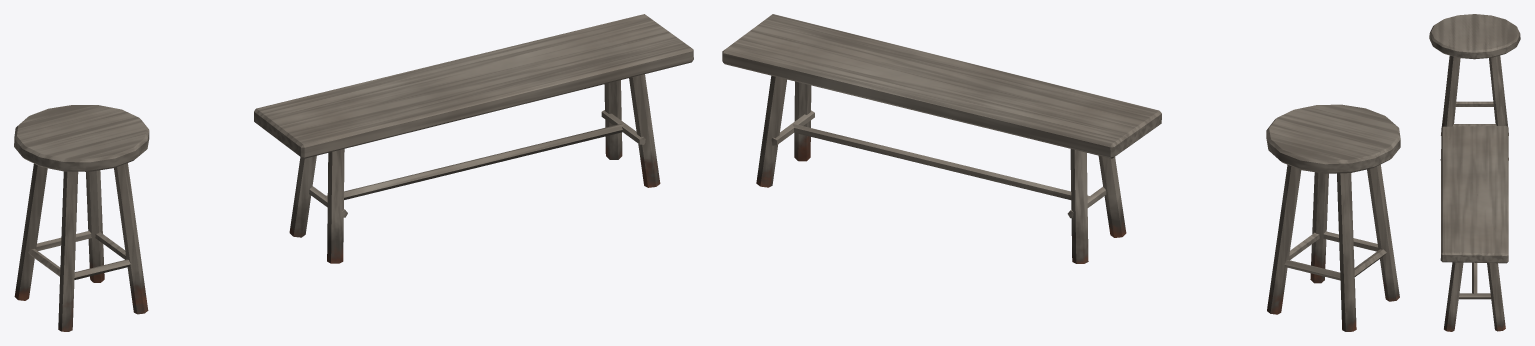
Rendered from ShackSeats.fbx.
The picture shows the model from 3 angles, left to right: view 1: azimuth 30°, elevation 25°; view 2: azimuth 150°, elevation 25°; view 3: azimuth 270°, elevation 25°; orthographic projection. The views are drawn at different scales.
Visible parts, largest first — view 1: WoodenBench, WoodenStool; view 2: WoodenBench, WoodenStool; view 3: WoodenBench, WoodenStool.
Part boxes in pixels (left/top/right/bottom): WoodenBench: left=254, top=14, right=693, bottom=263; WoodenStool: left=14, top=105, right=149, bottom=331; WoodenBench: left=722, top=14, right=1161, bottom=263; WoodenStool: left=1266, top=104, right=1400, bottom=331; WoodenBench: left=1440, top=126, right=1508, bottom=331; WoodenStool: left=1429, top=14, right=1520, bottom=160.
Size of the model in its own units: 231 by 59.72 by 41.78.
1 material, 1 textured.
